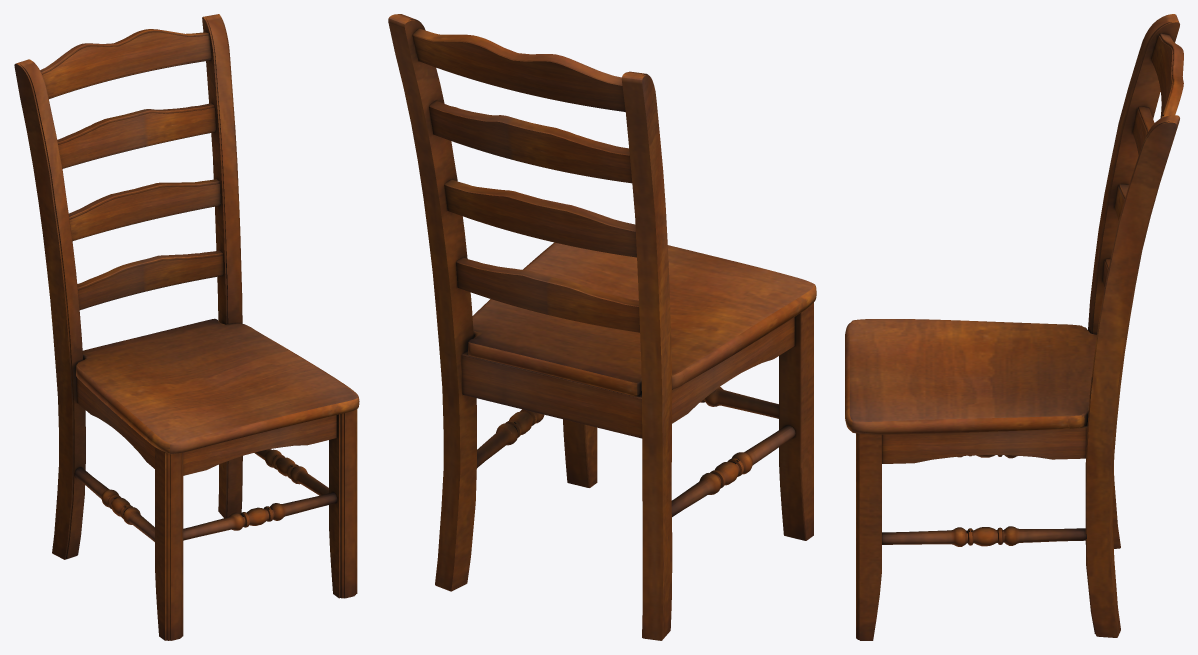
The model's file is Wooden Chair.obj.
3 views of the same model, side by side, from view 1: azimuth 30°, elevation 25°; view 2: azimuth 150°, elevation 25°; view 3: azimuth 270°, elevation 25° (orthographic). The views are drawn at different scales.
Parts seen in each view (by area): view 1: Wooden_Chair; view 2: Wooden_Chair; view 3: Wooden_Chair.
Boxes of the visible parts, <box> form: Wooden_Chair: <box>14,14,359,640</box>; Wooden_Chair: <box>388,14,816,640</box>; Wooden_Chair: <box>845,14,1183,640</box>.
Bounding box in the file's own units: 16.92 × 37.77 × 22.16.
